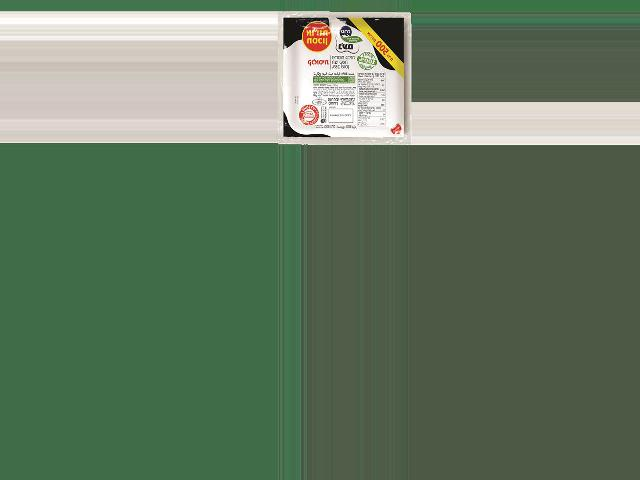cheese: (281, 20, 410, 133)
